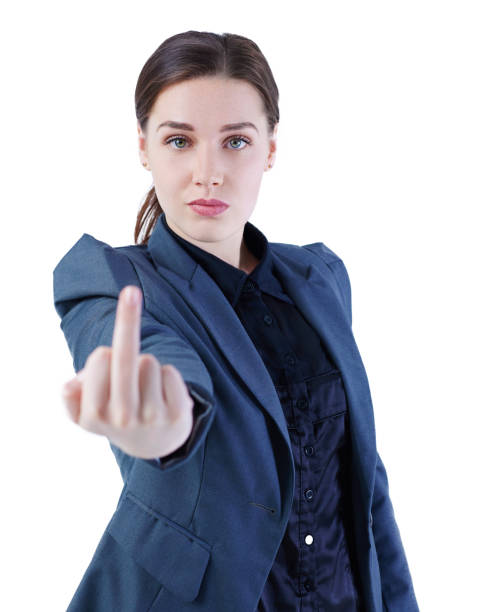insulting_gesture: (62, 278, 194, 453)
